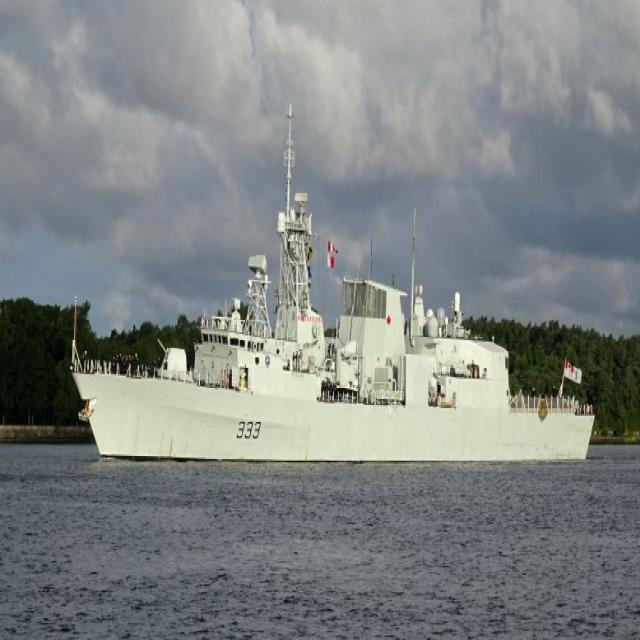Fragata: (64, 113, 598, 464)
